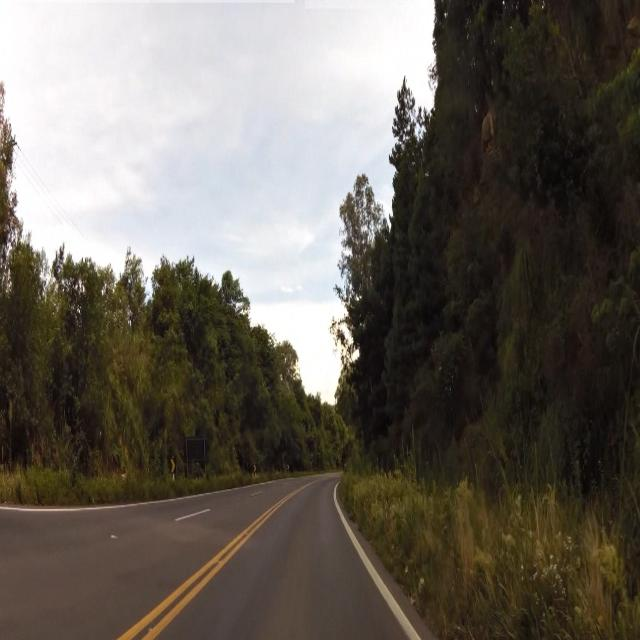Del: (167, 455, 181, 474)
